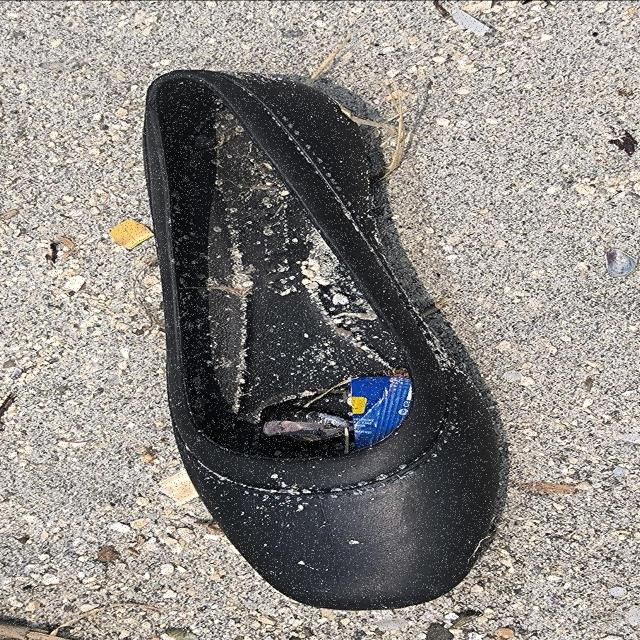rubber_waste: (143, 70, 503, 612)
